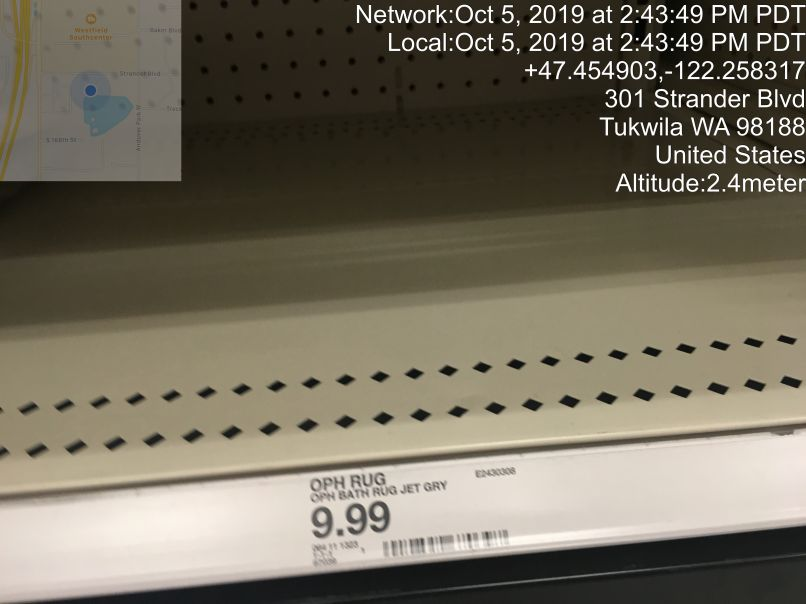Label: (298, 447, 598, 571)
Location: (598, 80, 806, 171)
Time: (347, 1, 806, 55)
Void: (17, 57, 781, 399)
